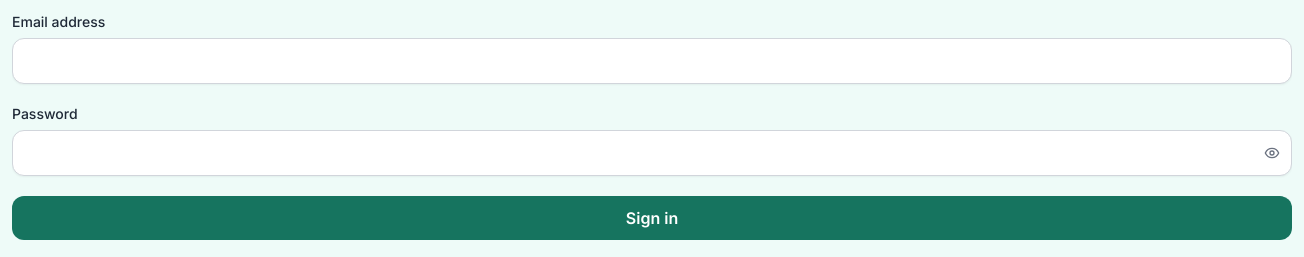
Test: LoginForm › reveals and hides a password without submitting the form
Type "patient@example.test" into the field labelled "Email address".
click(652, 61); type("patient@example.test")  # box x1=12 y1=38 x2=1292 y2=84
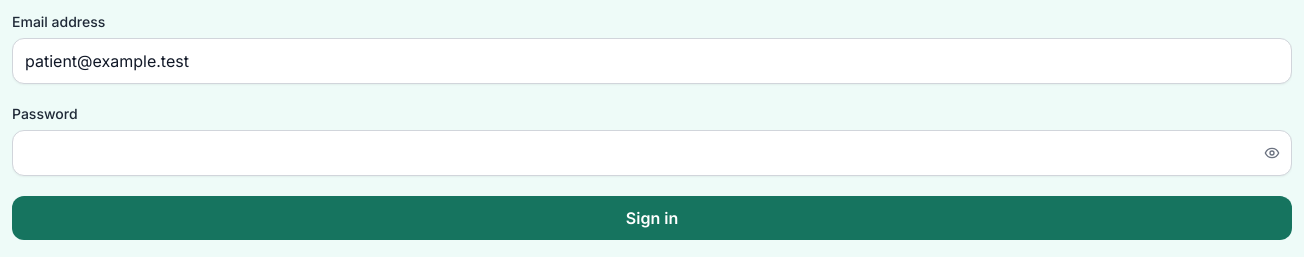
Type "Password1" into the password field labelled "Password".
click(652, 153); type("Password1")  # box x1=12 y1=130 x2=1292 y2=176
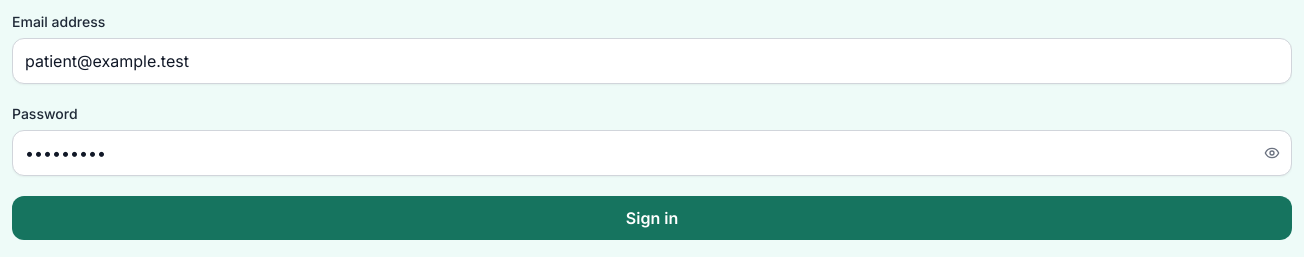
Click the button named "Show password".
click(1272, 153)  # box x1=1252 y1=130 x2=1292 y2=176
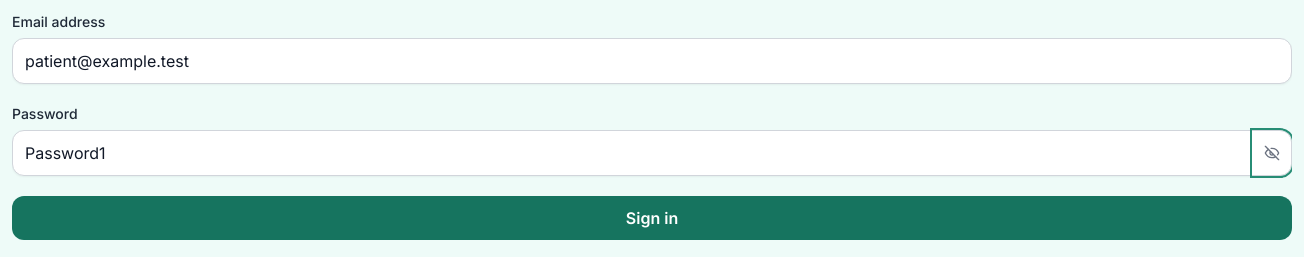
Expected: the field labelled "Password" shows its text, x1=12 y1=130 x2=1292 y2=176
Click the button named "Hide password".
click(1272, 153)  # box x1=1252 y1=130 x2=1292 y2=176
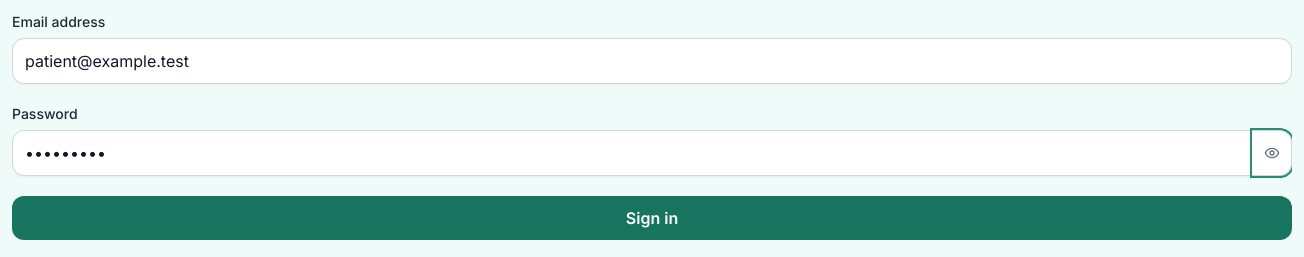
Expected: the password field labelled "Password" hides its text, x1=12 y1=130 x2=1292 y2=176
